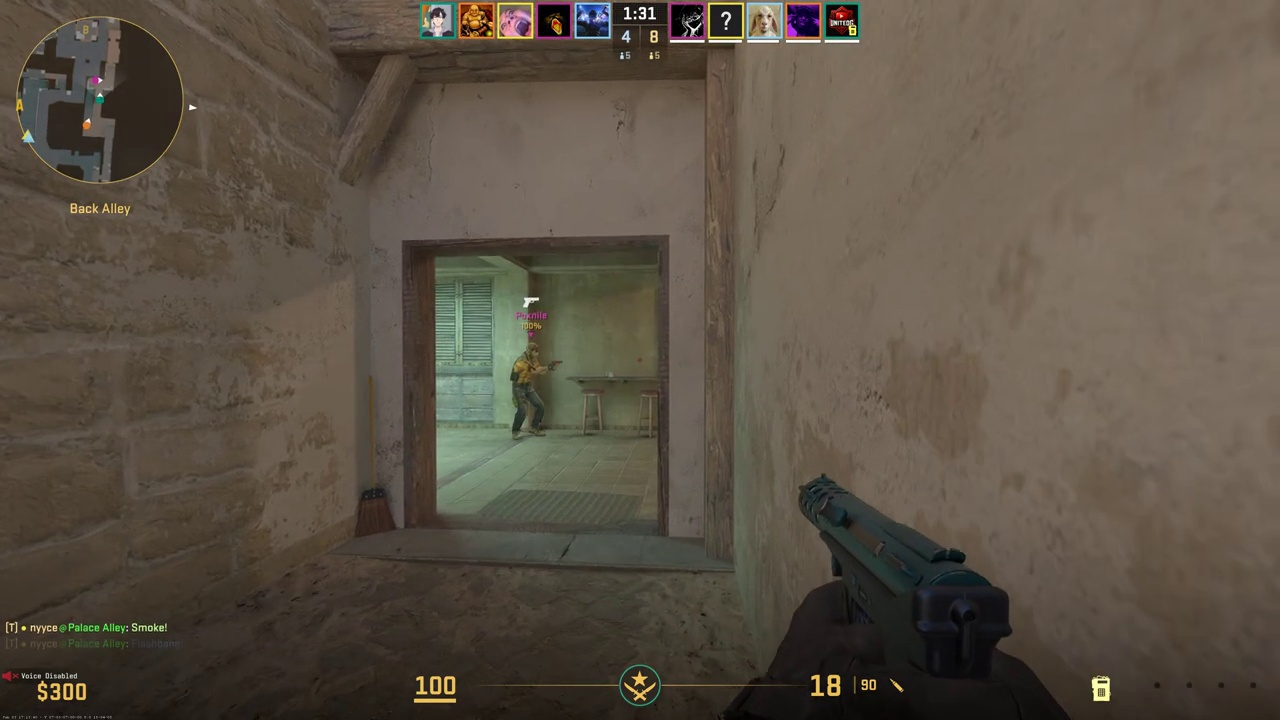Terrorist: (510, 343, 546, 440)
